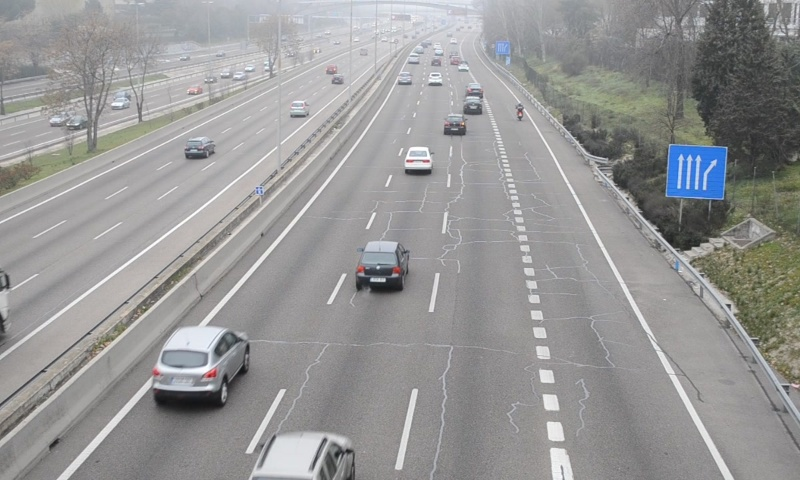car: (152, 328, 249, 395), (356, 242, 409, 286), (404, 146, 433, 172), (443, 114, 467, 136), (463, 96, 483, 115), (466, 82, 485, 98), (426, 71, 444, 87)
motorcycle: (515, 102, 525, 122)
